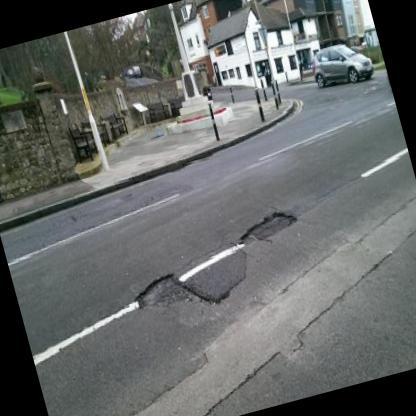pothole: (236, 204, 302, 248), (130, 266, 190, 313)
